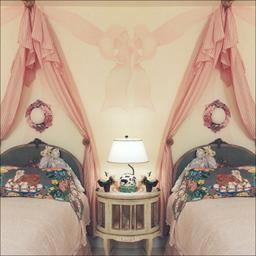Cama: (6, 145, 83, 253), (177, 156, 253, 253)
